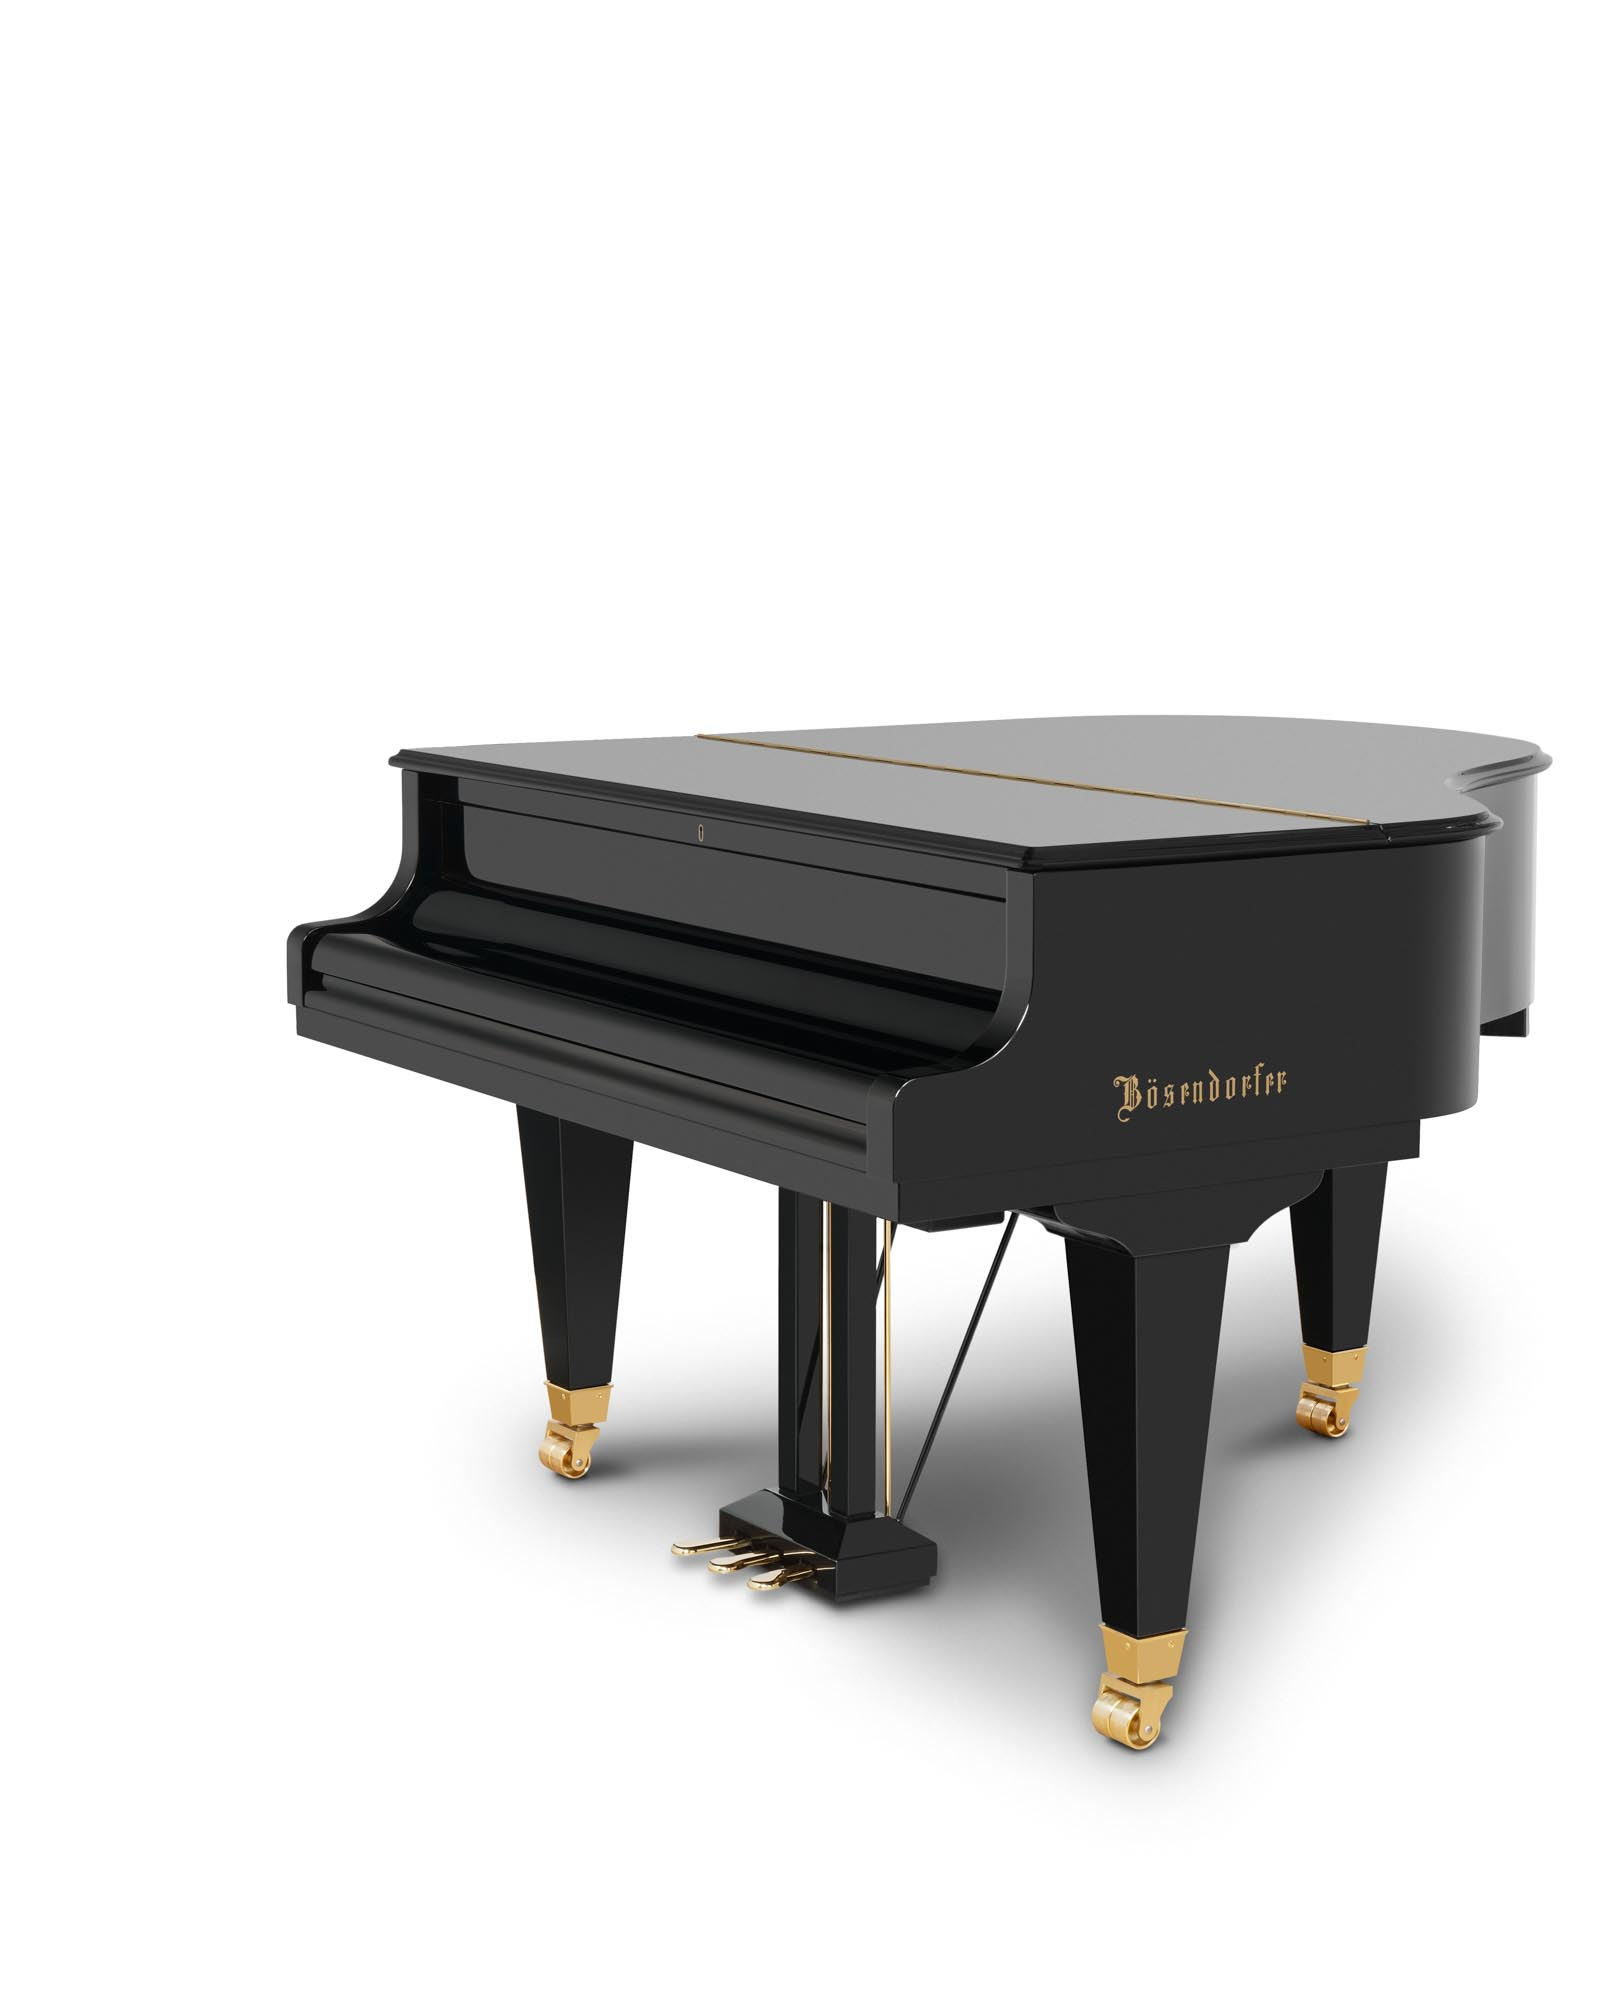GrandPiano: (324, 591, 1571, 1217)
